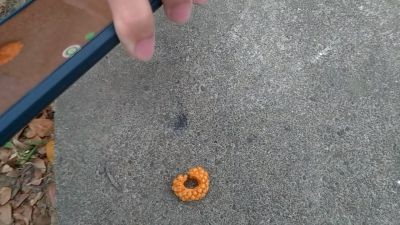eggs: (170, 164, 212, 205)
